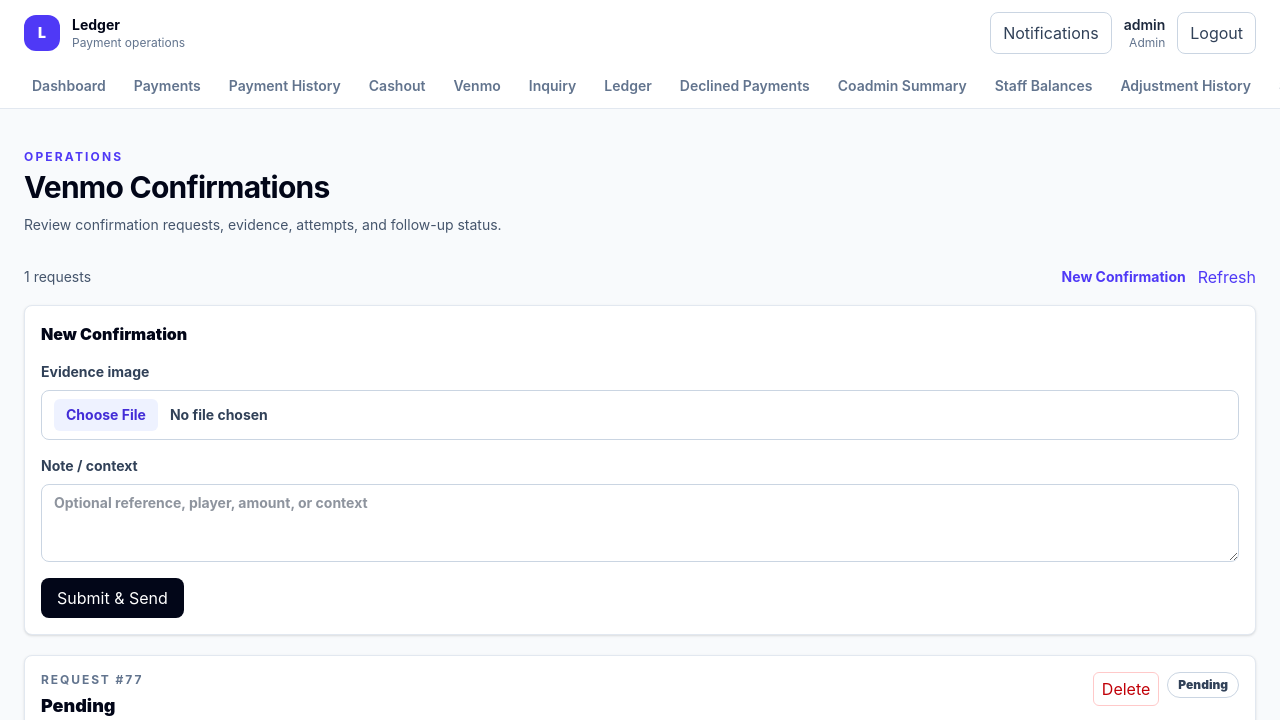
Test: VenmoConfirmationsPage › disables modal actions while deleting
Click the button "Delete".
click(1126, 689)  # box x1=1093 y1=672 x2=1159 y2=706
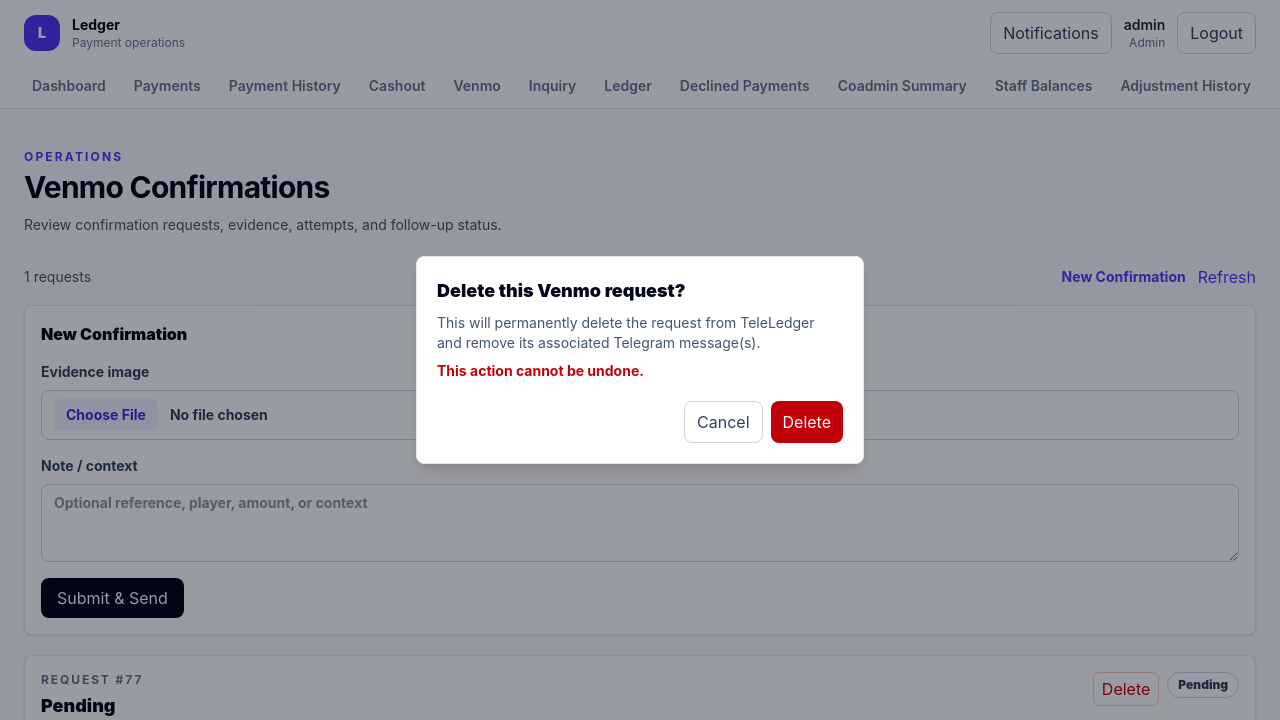
Click the button "Delete".
click(807, 422)  # box x1=770 y1=401 x2=843 y2=443
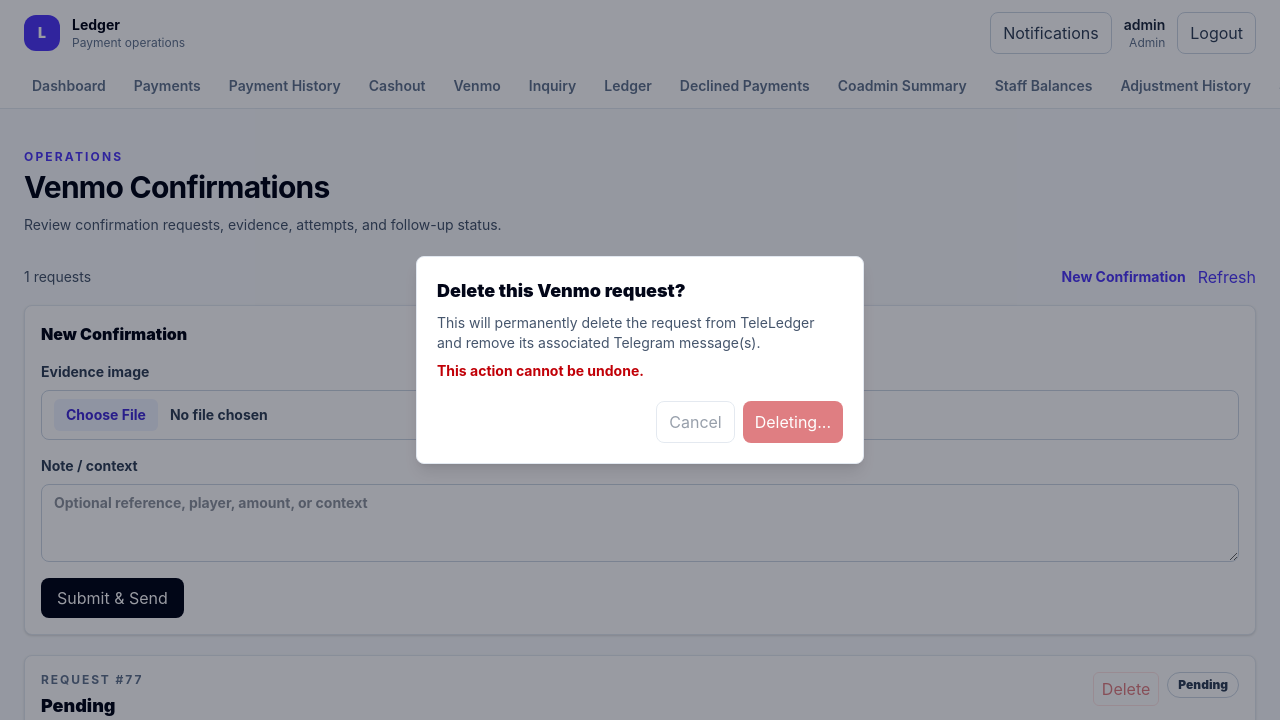
Now the button "Deleting..." is disabled, box x1=743 y1=401 x2=843 y2=443
Now the button "Cancel" is disabled, box x1=656 y1=401 x2=735 y2=443
